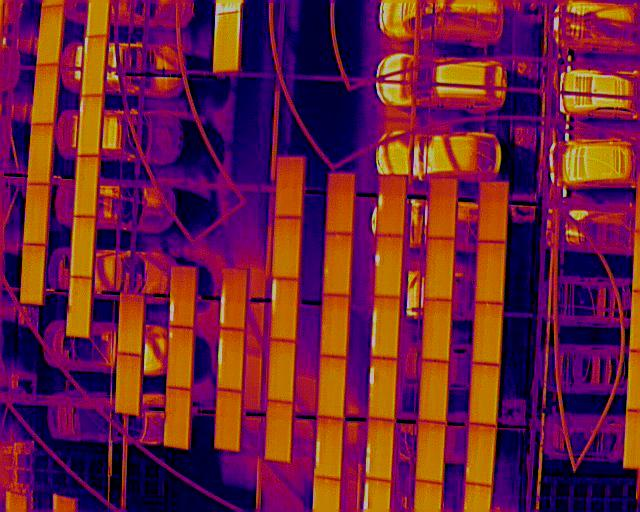Cell: (376, 175, 407, 236), (375, 237, 404, 298), (169, 327, 194, 390)
No-Anomaly: (479, 181, 510, 242), (425, 239, 455, 300), (476, 241, 505, 304), (428, 176, 457, 238), (474, 302, 503, 363), (470, 365, 499, 426), (274, 217, 302, 280), (321, 295, 349, 358), (327, 172, 355, 234), (318, 357, 346, 419), (420, 361, 448, 422), (325, 233, 352, 295), (423, 301, 450, 363), (468, 424, 495, 486), (277, 156, 304, 217), (418, 422, 445, 483), (36, 5, 63, 64), (24, 183, 50, 244), (266, 401, 292, 462), (269, 340, 294, 402), (32, 66, 58, 125), (215, 390, 240, 451), (119, 294, 144, 355), (29, 124, 54, 183), (116, 355, 141, 414), (21, 245, 46, 303), (68, 278, 91, 338), (166, 390, 190, 447), (72, 218, 94, 280), (76, 156, 97, 218)
Unclassified: (366, 419, 394, 480), (373, 297, 400, 359), (272, 280, 299, 342), (370, 360, 397, 422), (316, 419, 343, 480), (221, 269, 248, 329), (218, 330, 244, 391), (82, 36, 108, 96), (171, 267, 196, 328), (214, 14, 240, 72), (79, 98, 104, 155)
